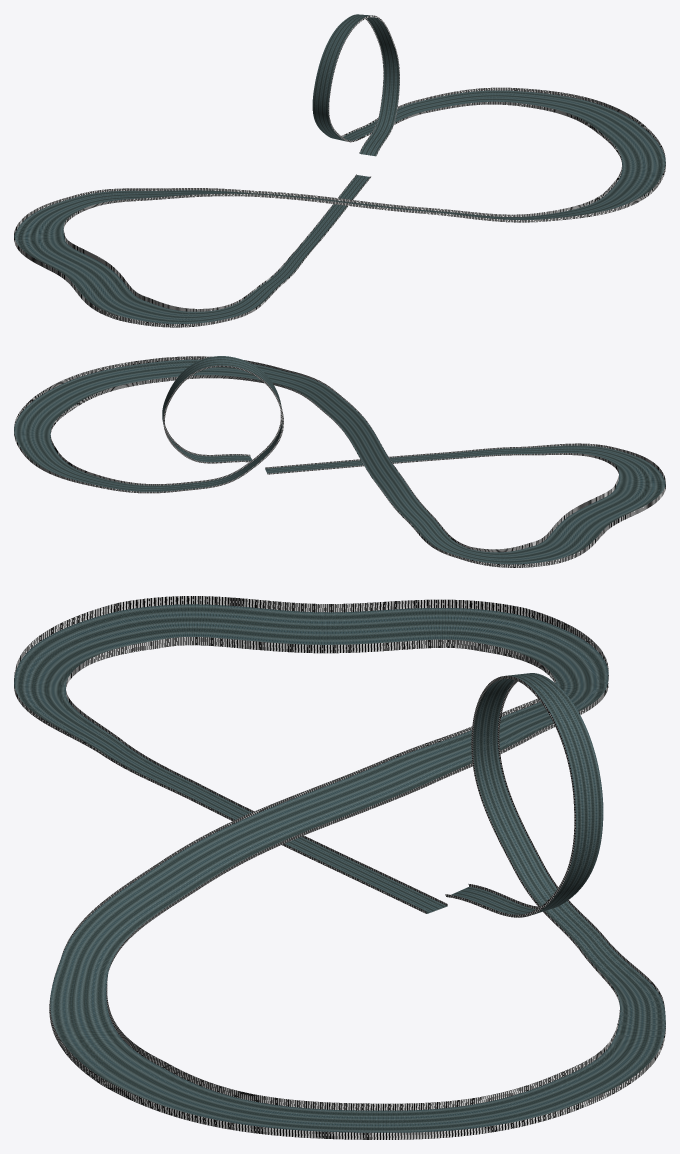
Rendered from FZX_EightRoad_coll.fbx.
The picture shows the model from 3 angles, top to bottom: view 1: azimuth 30°, elevation 25°; view 2: azimuth 150°, elevation 25°; view 3: azimuth 270°, elevation 25°; orthographic projection. The views are drawn at different scales.
Visible parts, largest first — view 1: Road_coll, Wall_coll; view 2: Road_coll, Wall_coll; view 3: Road_coll, Wall_coll.
Part boxes in pixels (x1=…): Road_coll: x1=14, y1=14, x2=665, y2=323; Wall_coll: x1=14, y1=15, x2=665, y2=327; Road_coll: x1=14, y1=356, x2=665, y2=564; Wall_coll: x1=14, y1=356, x2=665, y2=567; Road_coll: x1=14, y1=604, x2=665, y2=1132; Wall_coll: x1=14, y1=596, x2=665, y2=1139.
Size of the model in its own units: 236725 by 51362 by 121254.
